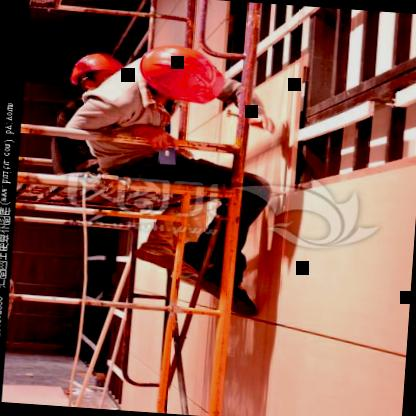helmet: (128, 38, 228, 116), (62, 45, 134, 101)
